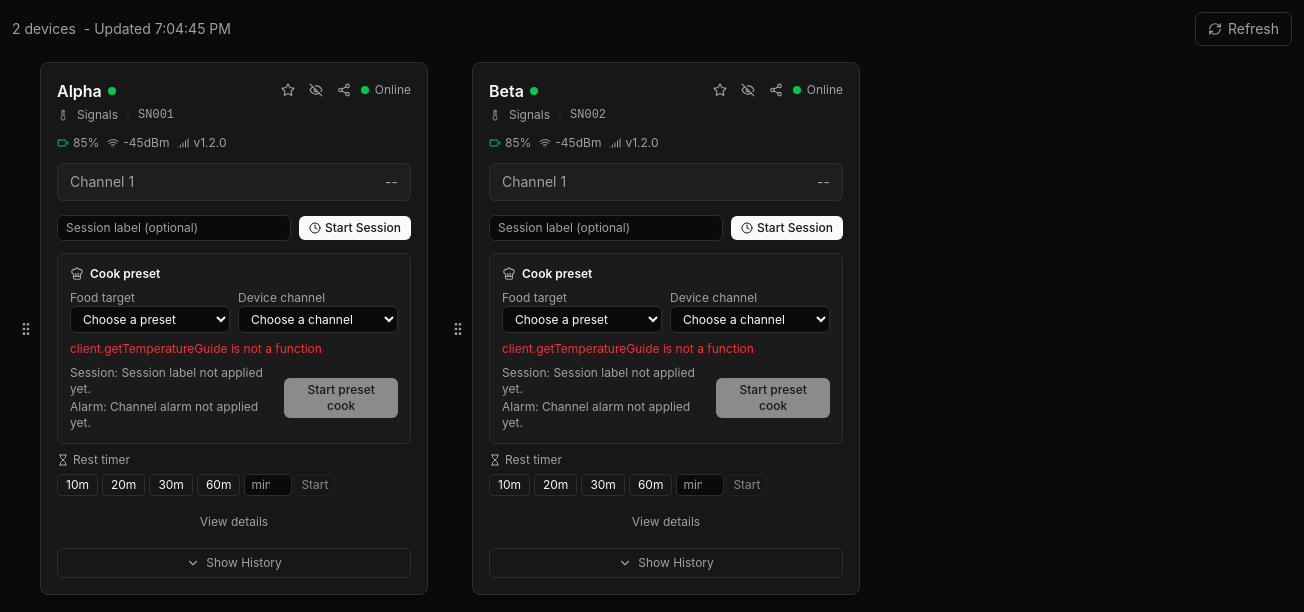
DeviceList visibility › clicking hide button removes device from the list
// Hide Beta
Click the button named "Hide Beta" at (748, 90), box top-left (737, 79), bottom-right (759, 101)
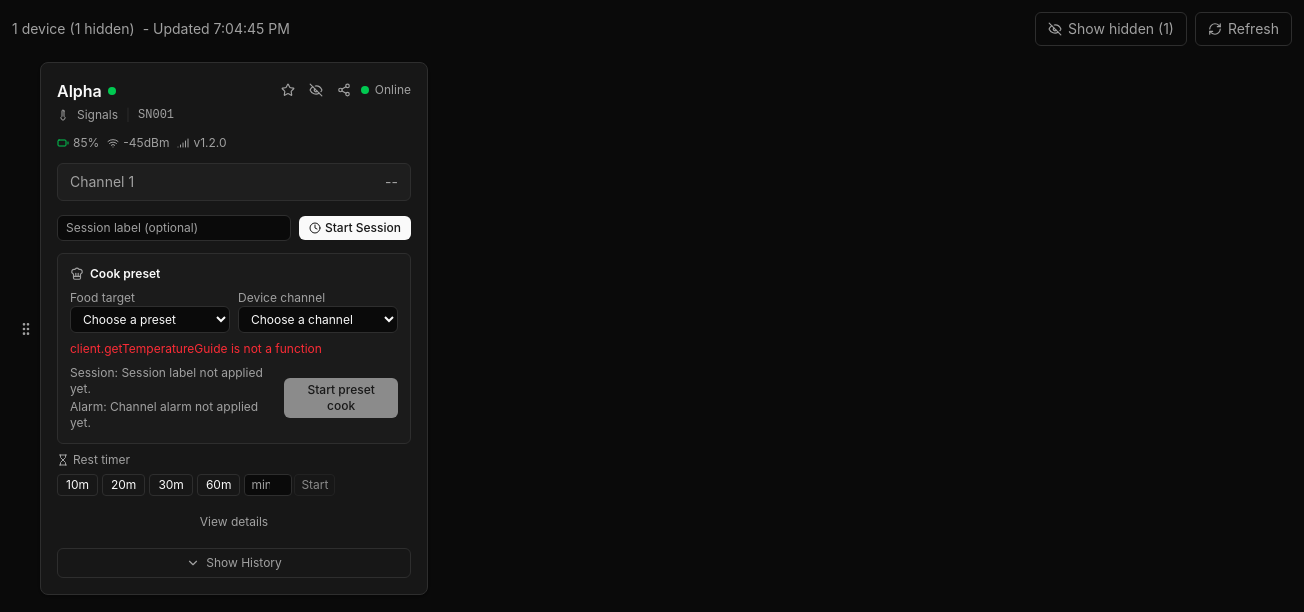
Expected: the link "Beta" is gone
